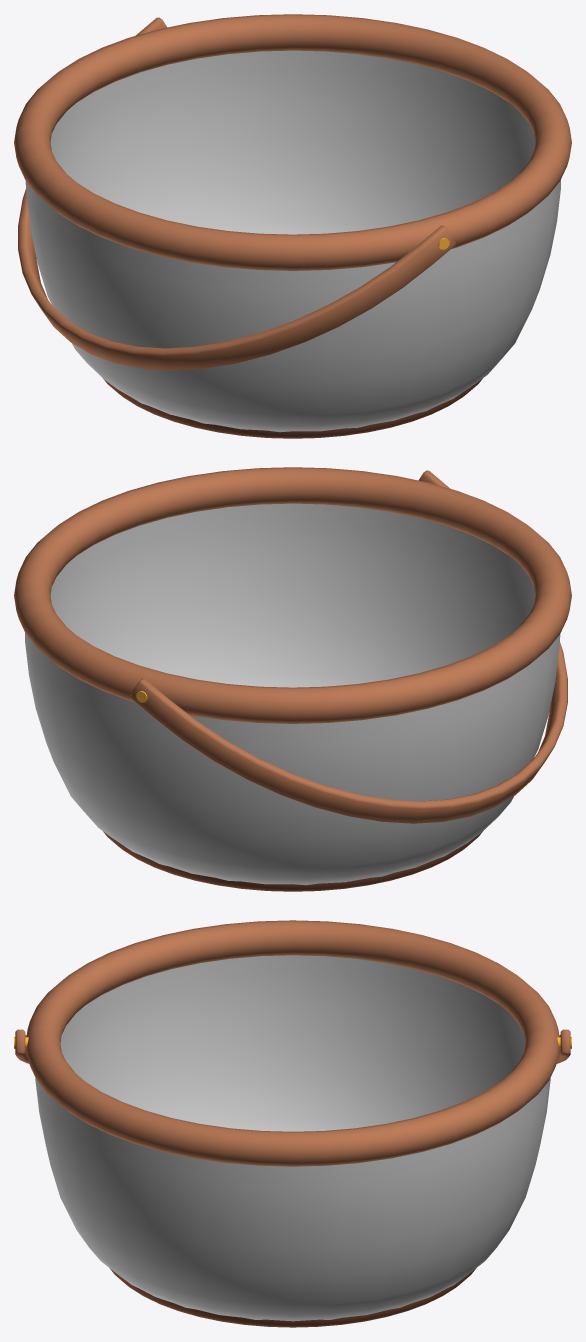
Rendered from Basket.fbx.
3 views of the same model, one above another, from view 1: azimuth 30°, elevation 25°; view 2: azimuth 150°, elevation 25°; view 3: azimuth 270°, elevation 25° (orthographic). The views are drawn at different scales.
Visible parts, largest first — view 1: Circle; view 2: Circle; view 3: Circle.
Boxes of the visible parts, x1,y1,x2,y2 form: Circle: (14, 14, 571, 438); Circle: (14, 467, 571, 891); Circle: (14, 920, 571, 1327).
Size of the model in its own units: 214 by 98.75 by 223.
